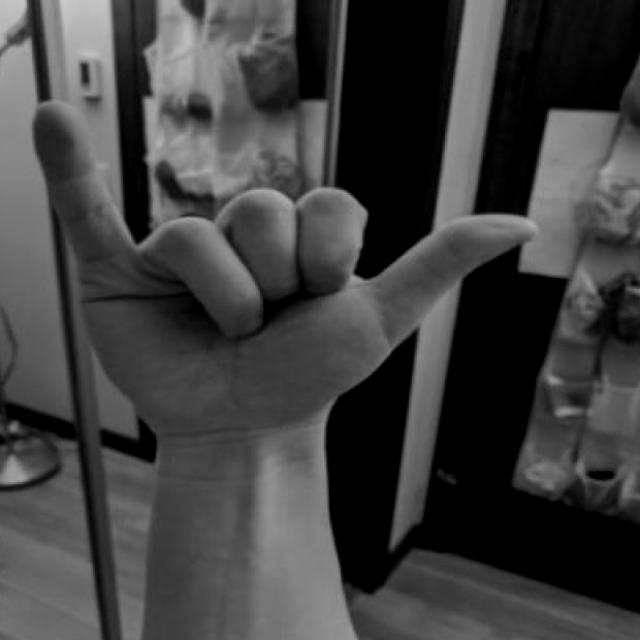Y: (23, 84, 554, 476)
